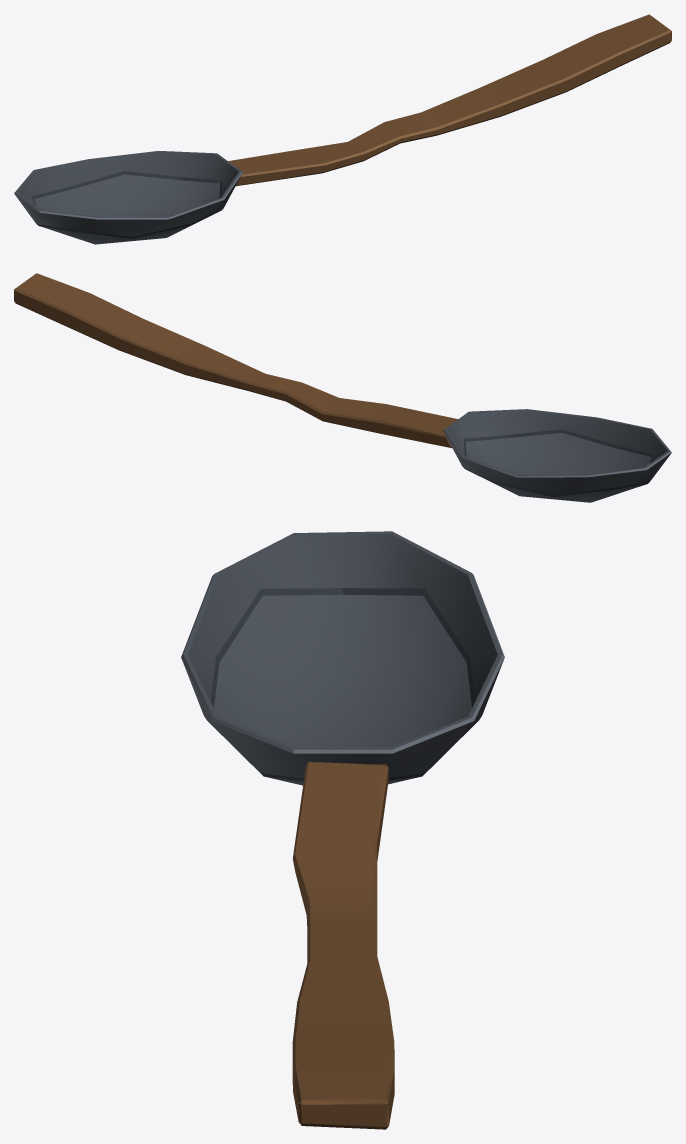
Rendered from UD_SFK_Spoon.fbx.
3 renders of one model, top to bottom at view 1: azimuth 30°, elevation 25°; view 2: azimuth 150°, elevation 25°; view 3: azimuth 270°, elevation 25°, orthographic. The views are drawn at different scales.
Visible parts, largest first — view 1: Spoon; view 2: Spoon; view 3: Spoon.
Part boxes in pixels (<box>): Spoon: <box>14,14,671,244</box>; Spoon: <box>14,273,671,502</box>; Spoon: <box>181,531,504,1129</box>.
Bounding box in the file's own units: 36.28 × 4.33 × 8.02.
